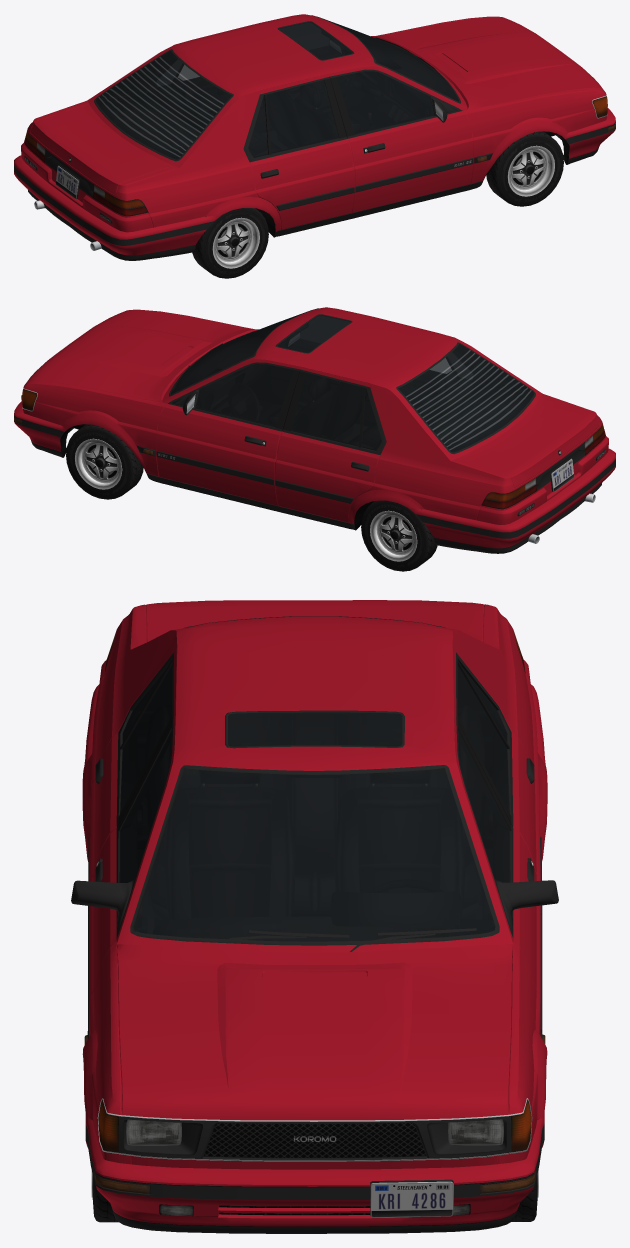
Rendered from kiri86.glb.
3 views of the same model, one above another, from view 1: azimuth 30°, elevation 25°; view 2: azimuth 150°, elevation 25°; view 3: azimuth 270°, elevation 25° (orthographic). The views are drawn at different scales.
Visible parts, largest first — view 1: kiri86_Body_kiri86_Bodymat_0, kiri86_Interior_UCB_Interior_Trim_0, kiri86_Hood_kiri86_Bodymat_0, kiri86_Bottom_UCB_BOTTOM_GT_0, kiri86_Rear_window_UCB_Lights_and_Glass_Transperent_0, kiri86_Body_Glass_UCB_Lights_and_Glass_Transperent_0, kiri86_Trunk_door_kiri86_Bodymat_0, kiri86_Wheel_FR_RB1c_Tire_1k_0, kiri86_Glass_Passenger_UCB_Lights_and_Glass_Transperent_0, kiri86_Wheel_RR_RB1c_Tire_1k_0, kiri86_Bumper_rear_kiri86_Bodymat_0, kiri86_bumper_rear_inner_UCB_BOTTOM_GT_0 (+7 smaller); view 2: kiri86_Body_kiri86_Bodymat_0, kiri86_Interior_UCB_Interior_Trim_0, kiri86_Hood_kiri86_Bodymat_0, kiri86_Bottom_UCB_BOTTOM_GT_0, kiri86_Rear_window_UCB_Lights_and_Glass_Transperent_0, kiri86_Body_Glass_UCB_Lights_and_Glass_Transperent_0, kiri86_Trunk_door_kiri86_Bodymat_0, kiri86_Wheel_FL_RB1c_Tire_1k_0, kiri86_Glass_Driver_UCB_Lights_and_Glass_Transperent_0, kiri86_Wheel_RL_RB1c_Tire_1k_0, kiri86_Bumper_rear_kiri86_Bodymat_0, kiri86_bumper_rear_inner_UCB_BOTTOM_GT_0 (+8 smaller); view 3: kiri86_Body_kiri86_Bodymat_0, kiri86_Interior_UCB_Interior_Trim_0, kiri86_Hood_kiri86_Bodymat_0, kiri86_Windshield_UCB_Lights_and_Glass_Transperent_0, kiri86_Bottom_UCB_BOTTOM_GT_0, kiri86_Bumper_front_kiri86_Bodymat_0, kiri86_Body_Glass_UCB_Lights_and_Glass_Transperent_0, kiri86_Bumper_Front_Inner_UCB_BOTTOM_GT_0, kiri86_Trunk_door_kiri86_Bodymat_0, kiri86_Headlights_Glass_UCB_Lights_and_Glass_Transperent_0, kiri86_Glass_Driver_UCB_Lights_and_Glass_Transperent_0, kiri86_Glass_Passenger_UCB_Lights_and_Glass_Transperent_0 (+4 smaller).
Boxes of the visible parts, bbox=[...] form: kiri86_Body_kiri86_Bodymat_0: bbox=[21, 14, 606, 232]; kiri86_Interior_UCB_Interior_Trim_0: bbox=[96, 23, 458, 158]; kiri86_Hood_kiri86_Bodymat_0: bbox=[371, 17, 603, 109]; kiri86_Bottom_UCB_BOTTOM_GT_0: bbox=[24, 15, 607, 250]; kiri86_Rear_window_UCB_Lights_and_Glass_Transperent_0: bbox=[95, 50, 231, 159]; kiri86_Body_Glass_UCB_Lights_and_Glass_Transperent_0: bbox=[157, 22, 352, 157]; kiri86_Trunk_door_kiri86_Bodymat_0: bbox=[30, 104, 172, 194]; kiri86_Wheel_FR_RB1c_Tire_1k_0: bbox=[486, 131, 563, 206]; kiri86_Glass_Passenger_UCB_Lights_and_Glass_Transperent_0: bbox=[336, 71, 434, 134]; kiri86_Wheel_RR_RB1c_Tire_1k_0: bbox=[192, 208, 268, 278]; kiri86_Bumper_rear_kiri86_Bodymat_0: bbox=[14, 155, 221, 255]; kiri86_bumper_rear_inner_UCB_BOTTOM_GT_0: bbox=[14, 166, 213, 260]; kiri86_Body_kiri86_Bodymat_0: bbox=[23, 307, 608, 524]; kiri86_Interior_UCB_Interior_Trim_0: bbox=[171, 316, 533, 451]; kiri86_Hood_kiri86_Bodymat_0: bbox=[26, 310, 258, 402]; kiri86_Bottom_UCB_BOTTOM_GT_0: bbox=[22, 308, 605, 543]; kiri86_Rear_window_UCB_Lights_and_Glass_Transperent_0: bbox=[398, 344, 534, 452]; kiri86_Body_Glass_UCB_Lights_and_Glass_Transperent_0: bbox=[277, 315, 472, 450]; kiri86_Trunk_door_kiri86_Bodymat_0: bbox=[457, 397, 599, 487]; kiri86_Wheel_FL_RB1c_Tire_1k_0: bbox=[66, 424, 143, 499]; kiri86_Glass_Driver_UCB_Lights_and_Glass_Transperent_0: bbox=[195, 364, 293, 427]; kiri86_Wheel_RL_RB1c_Tire_1k_0: bbox=[361, 500, 437, 571]; kiri86_Bumper_rear_kiri86_Bodymat_0: bbox=[407, 448, 615, 548]; kiri86_bumper_rear_inner_UCB_BOTTOM_GT_0: bbox=[416, 459, 615, 553]; kiri86_Body_kiri86_Bodymat_0: bbox=[82, 604, 547, 1169]; kiri86_Interior_UCB_Interior_Trim_0: bbox=[121, 667, 508, 940]; kiri86_Hood_kiri86_Bodymat_0: bbox=[117, 944, 512, 1120]; kiri86_Windshield_UCB_Lights_and_Glass_Transperent_0: bbox=[134, 768, 495, 941]; kiri86_Bottom_UCB_BOTTOM_GT_0: bbox=[71, 616, 558, 1161]; kiri86_Bumper_front_kiri86_Bodymat_0: bbox=[85, 1113, 544, 1226]; kiri86_Body_Glass_UCB_Lights_and_Glass_Transperent_0: bbox=[120, 665, 509, 813]; kiri86_Bumper_Front_Inner_UCB_BOTTOM_GT_0: bbox=[85, 1118, 544, 1233]; kiri86_Trunk_door_kiri86_Bodymat_0: bbox=[146, 600, 483, 642]; kiri86_Headlights_Glass_UCB_Lights_and_Glass_Transperent_0: bbox=[98, 1100, 531, 1152]; kiri86_Glass_Driver_UCB_Lights_and_Glass_Transperent_0: bbox=[458, 730, 510, 882]; kiri86_Glass_Passenger_UCB_Lights_and_Glass_Transperent_0: bbox=[119, 730, 171, 882].
Size of the model in its own units: 4.31 by 1.32 by 1.76.
8 materials, 7 textured.
